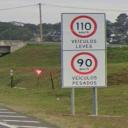speed_limit_110: (70, 15, 97, 38)
